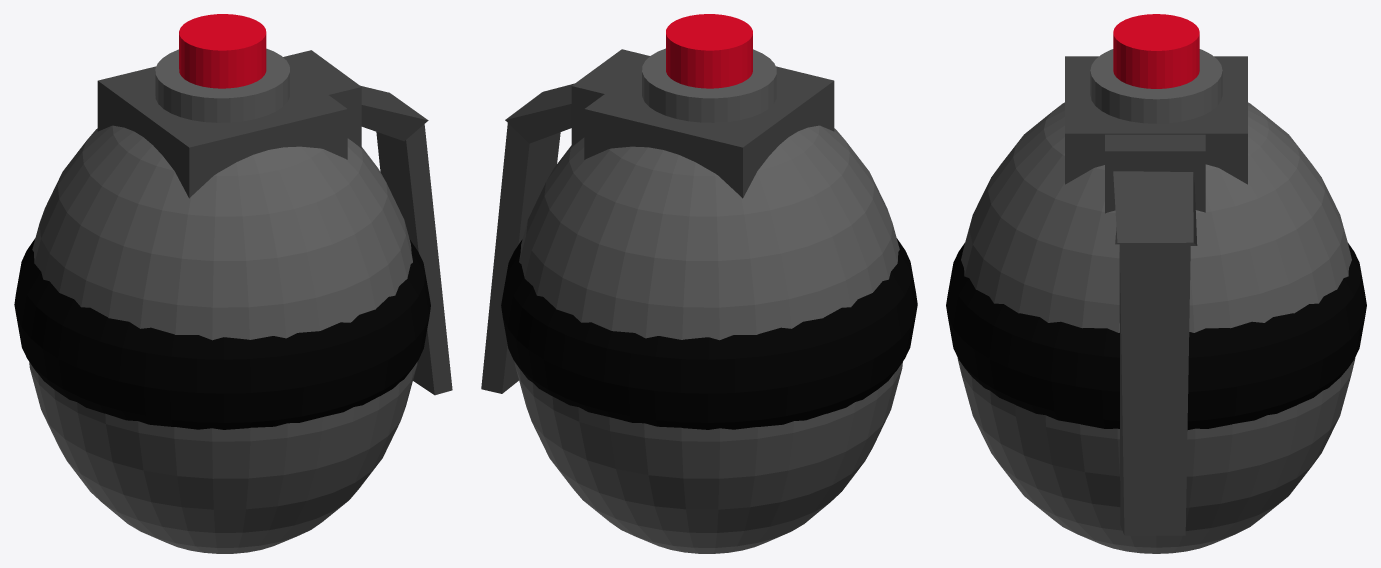
The model's file is Grenade01.fbx.
The picture shows the model from 3 angles, left to right: view 1: azimuth 30°, elevation 25°; view 2: azimuth 150°, elevation 25°; view 3: azimuth 270°, elevation 25°; orthographic projection.
Parts seen in each view (by area): view 1: Sphere, Torus, Cube, Cube.001, Cylinder.001, Cylinder, Cube.003, Cube.002; view 2: Sphere, Torus, Cube, Cube.001, Cylinder.001, Cylinder, Cube.003, Cube.002; view 3: Sphere, Torus, Cube.001, Cube, Cylinder.001, Cube.002, Cylinder, Cube.003.
Part boxes in pixels (x1,y1,x2,y2): Sphere: (29, 125, 417, 553); Torus: (14, 238, 430, 429); Cube: (97, 66, 347, 198); Cube.001: (376, 124, 452, 395); Cylinder.001: (179, 14, 266, 88); Cylinder: (155, 48, 289, 122); Cube.003: (283, 50, 361, 148); Cube.002: (360, 85, 428, 141); Sphere: (514, 125, 902, 553); Torus: (501, 238, 917, 429); Cube: (584, 66, 834, 198); Cube.001: (481, 123, 560, 393); Cylinder.001: (666, 14, 752, 88); Cylinder: (642, 48, 776, 122); Cube.003: (571, 49, 649, 146); Cube.002: (505, 83, 574, 143); Sphere: (957, 102, 1355, 553); Torus: (946, 243, 1366, 429); Cube.001: (1119, 243, 1190, 535); Cube: (1065, 56, 1247, 184); Cylinder.001: (1113, 14, 1199, 88); Cube.002: (1113, 171, 1197, 245); Cylinder: (1090, 49, 1222, 123); Cube.003: (1105, 134, 1205, 213).
Bounding box in the file's own units: 209 × 256 × 193.
